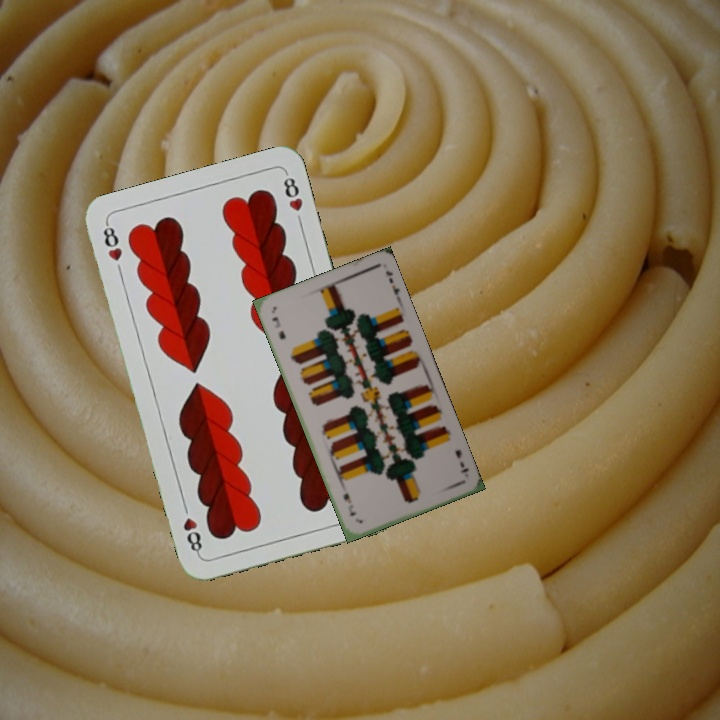E7: (451, 446, 472, 476), (268, 313, 288, 342)
H8: (99, 219, 125, 264)
